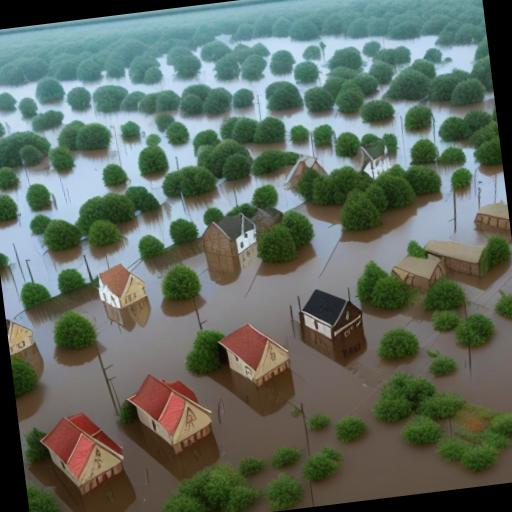flood: (16, 153, 512, 512), (0, 168, 303, 318), (60, 58, 402, 152), (6, 141, 130, 223), (243, 34, 439, 85), (37, 96, 158, 143), (395, 100, 475, 168), (245, 139, 360, 173), (114, 127, 167, 194), (431, 93, 495, 128), (159, 133, 197, 170), (436, 44, 478, 72), (436, 44, 478, 72), (0, 109, 31, 134), (0, 109, 31, 133), (0, 82, 36, 102), (0, 82, 36, 101), (40, 127, 61, 145), (39, 128, 61, 145), (242, 500, 272, 512), (297, 80, 321, 95), (216, 35, 239, 47)
house: (36, 401, 132, 504), (124, 366, 219, 461), (220, 314, 292, 394), (298, 280, 366, 346), (426, 228, 503, 286), (98, 258, 150, 316), (392, 250, 448, 298), (203, 211, 258, 259), (472, 201, 512, 241), (6, 312, 36, 356)
